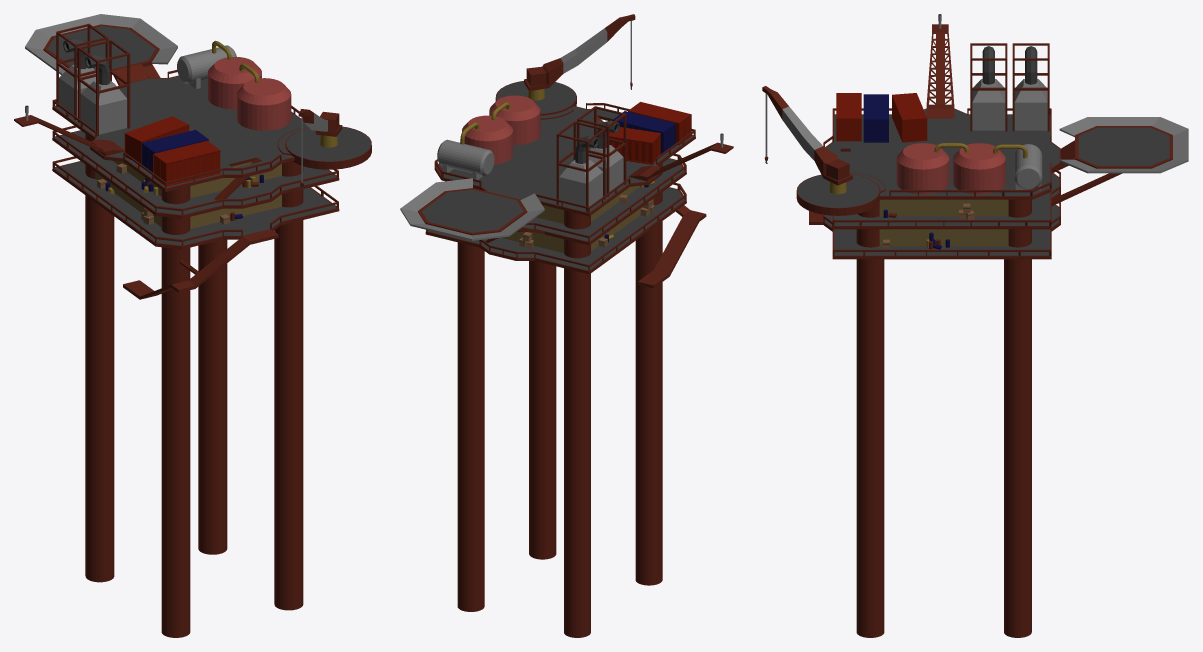
File: oilrig.fbx
3 renders of one model, left to right at view 1: azimuth 30°, elevation 25°; view 2: azimuth 150°, elevation 25°; view 3: azimuth 270°, elevation 25°, orthographic. The views are drawn at different scales.
Parts seen in each view (by area): view 1: Cylinder.006; view 2: Cylinder.006; view 3: Cylinder.006.
Boxes of the visible parts, bbox=[...] form: Cylinder.006: bbox=[14, 14, 371, 637]; Cylinder.006: bbox=[400, 14, 733, 637]; Cylinder.006: bbox=[762, 14, 1188, 637].
Size of the model in its own units: 7025 by 12335 by 9074.
